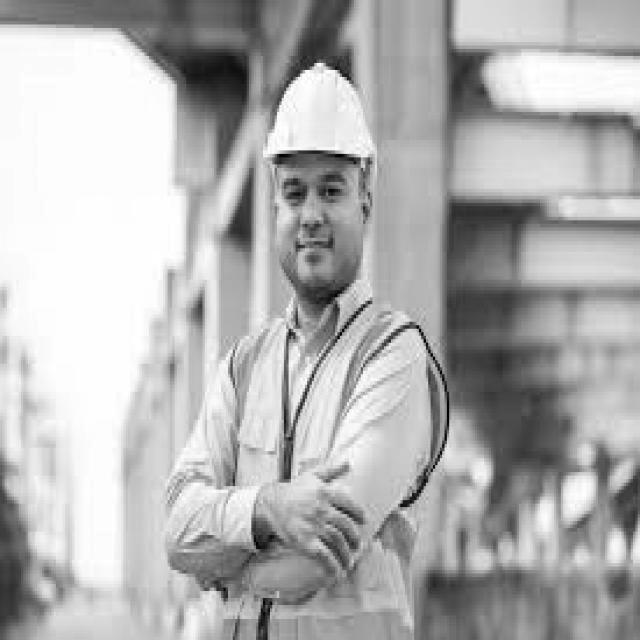construction helmet: (263, 63, 377, 161)
